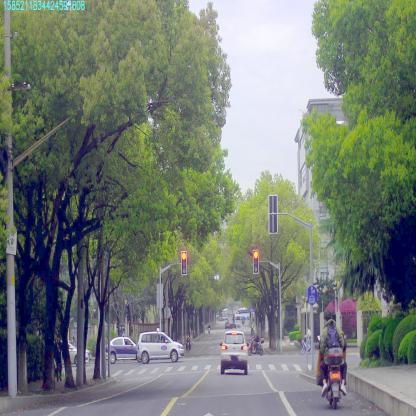traffic-light: (181, 251, 187, 275), (253, 250, 258, 274)
